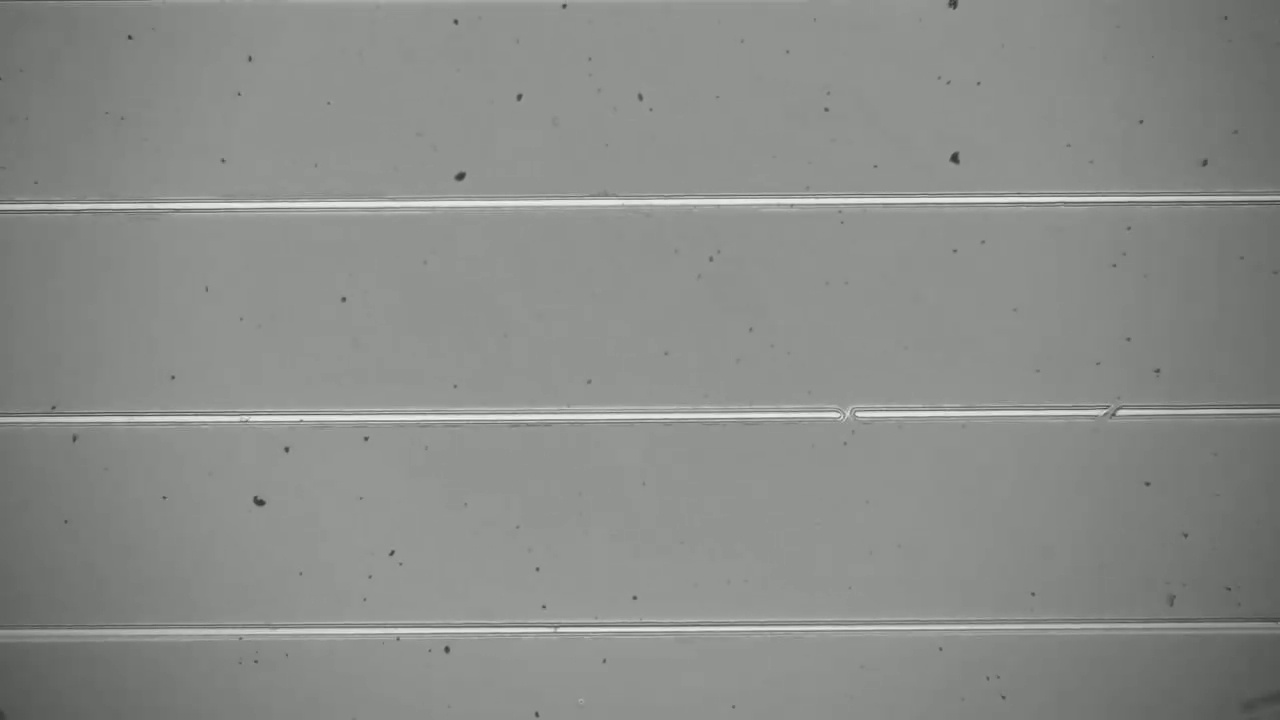open: (826, 398, 871, 434), (1093, 396, 1129, 427)
